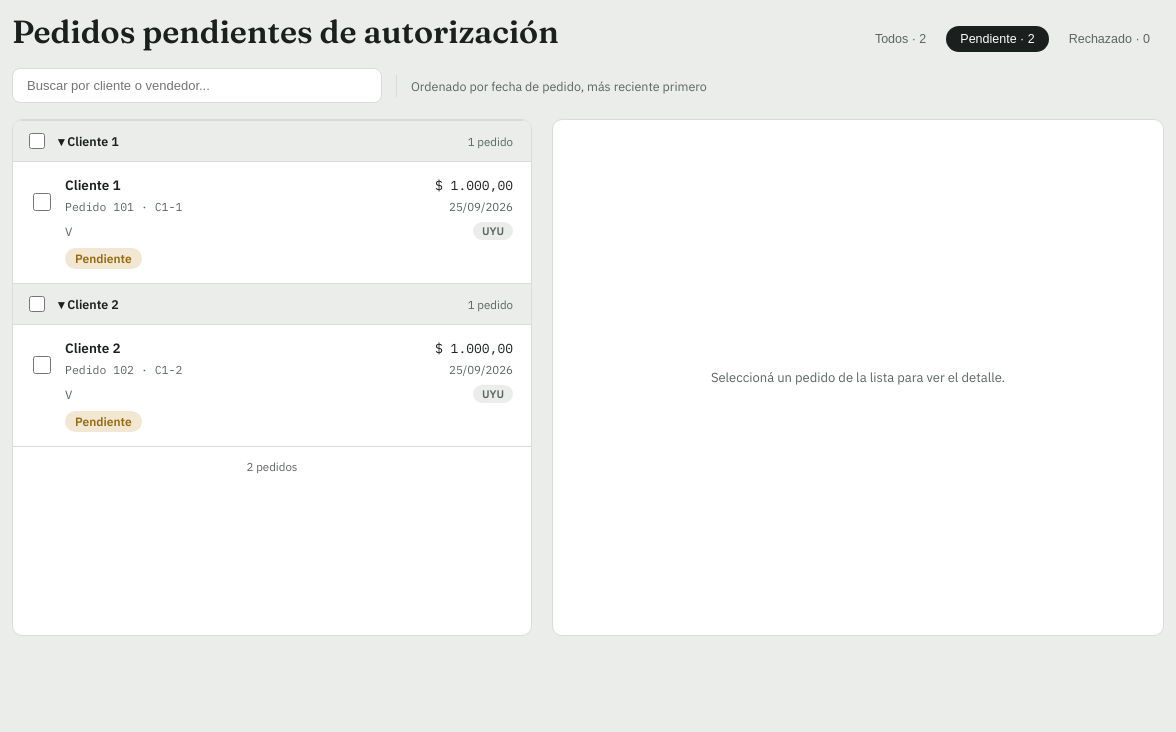
Bandeja - motivos de aprobacion NUEVOS › multiple: adjunto con 'Etiqueta/Carta' si, con 'Etiqueta/Estado de cuenta' no
Click the checkbox named "Seleccionar pedido 101" at (42, 202), box [32,193,50,211]
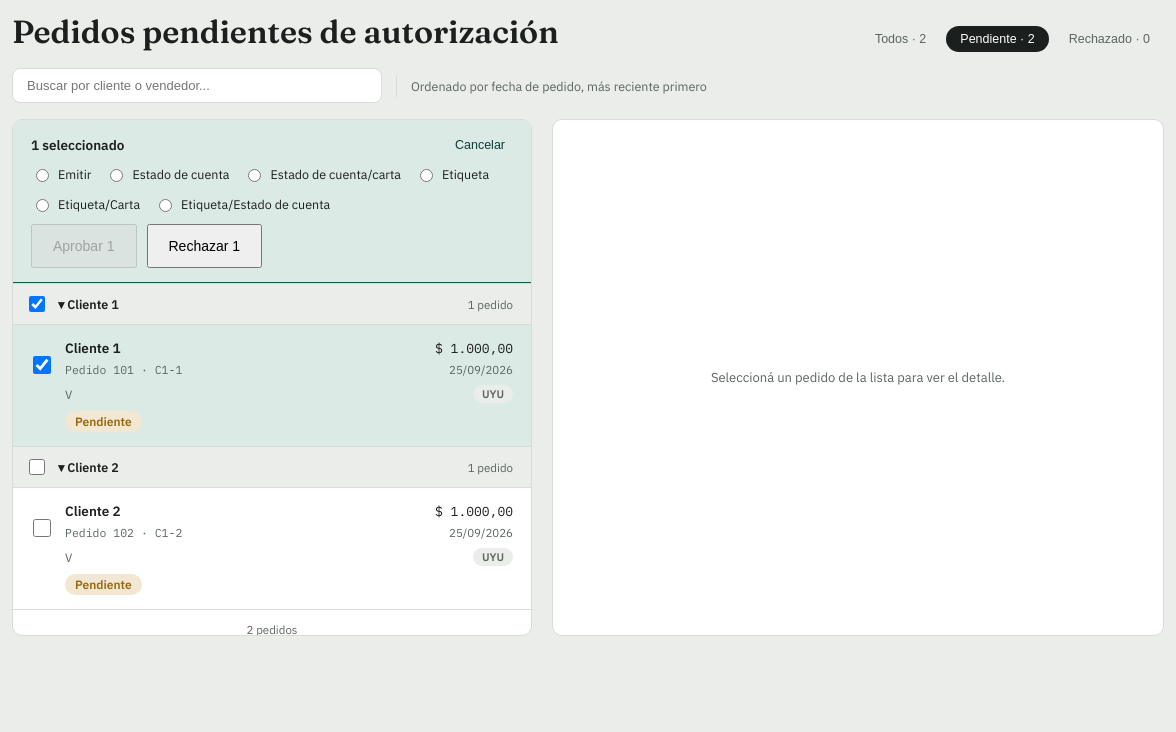
Click the radio button labelled "Etiqueta/Carta" at (42, 206), box [36,199,49,212]
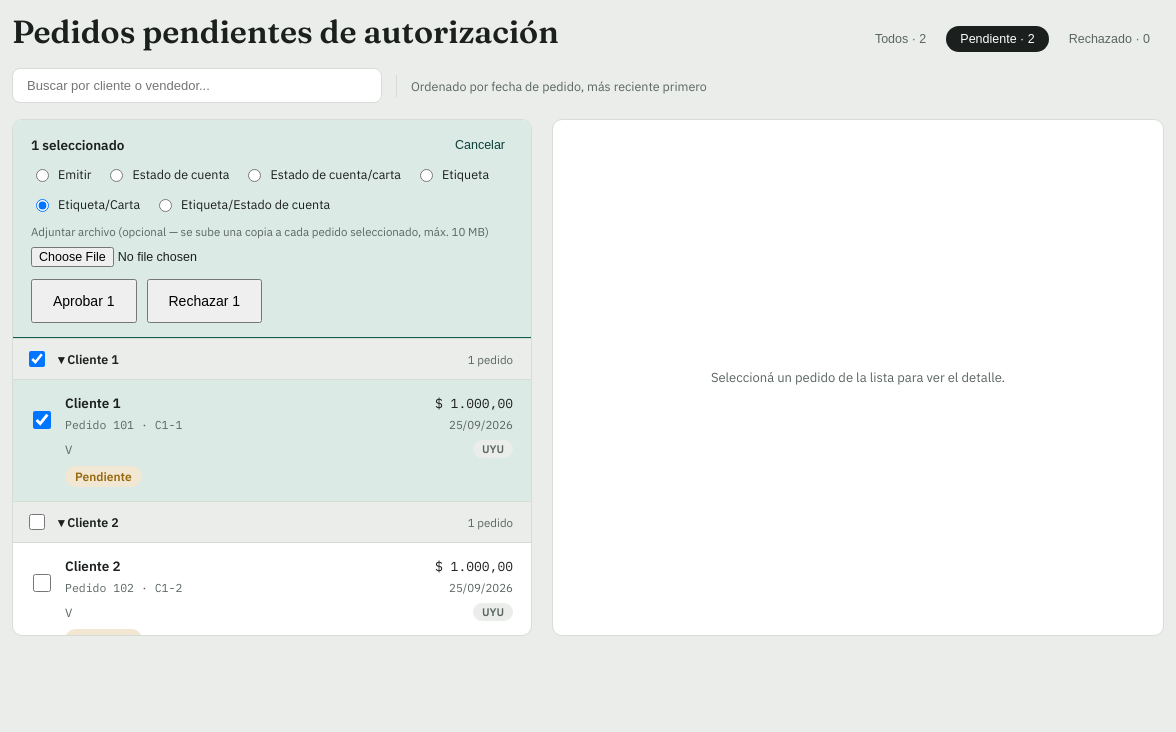
expect the file field is shown: met, box [31,247,268,267]
Click the radio button labelled "Etiqueta/Estado de cuenta" at (166, 206), box [159,199,172,212]
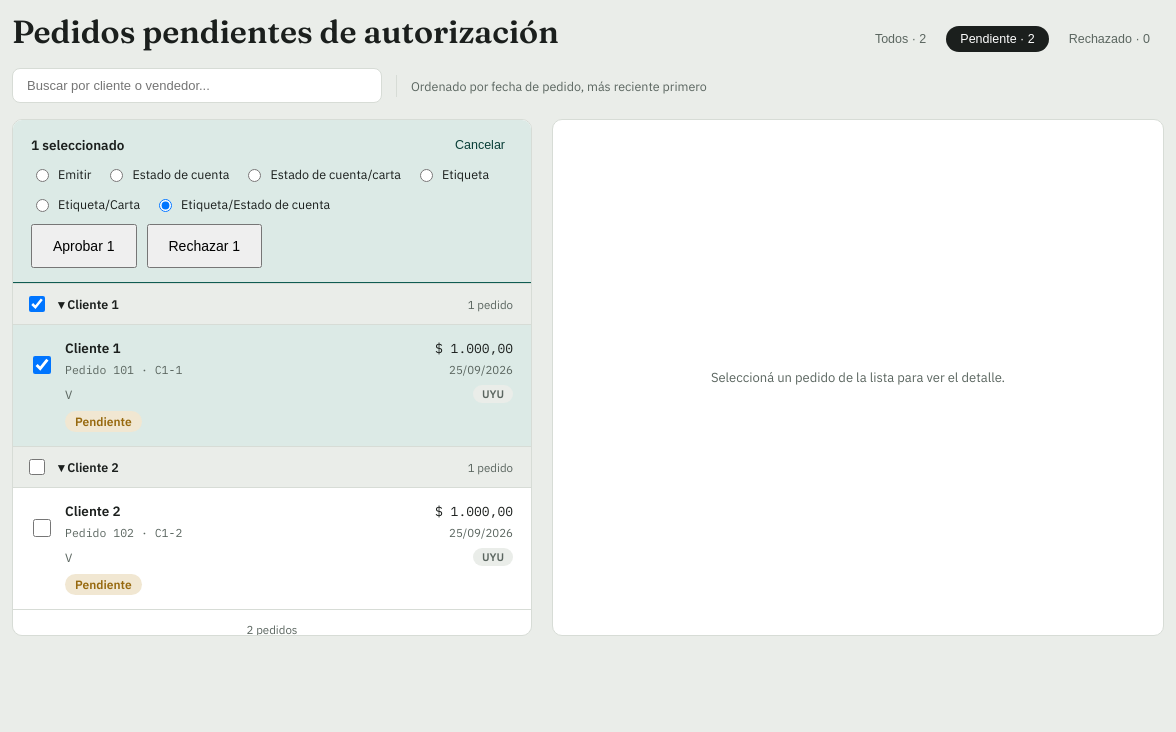
expect the file field is gone: met
